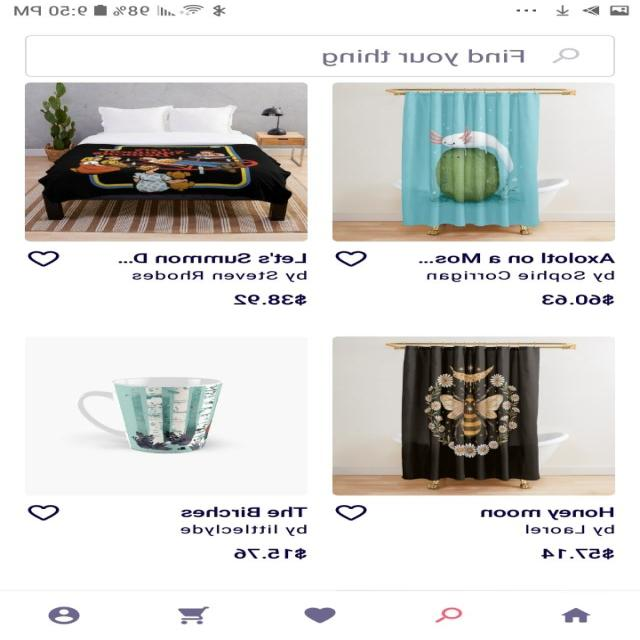EditText: (26, 35, 616, 77)
Icon: (178, 605, 210, 624), (49, 606, 81, 624), (335, 504, 368, 521), (335, 250, 367, 267), (304, 606, 336, 623), (29, 505, 60, 520), (29, 251, 60, 266), (562, 607, 592, 622), (552, 48, 580, 63), (436, 607, 464, 622)
Image: (332, 82, 616, 242), (25, 82, 308, 242), (332, 336, 616, 495), (25, 336, 308, 495)
Text: (418, 252, 616, 282), (118, 252, 308, 282), (481, 507, 615, 536), (182, 506, 308, 536), (322, 49, 526, 67), (235, 293, 308, 306), (542, 293, 615, 306), (234, 547, 308, 559), (542, 548, 614, 558)
